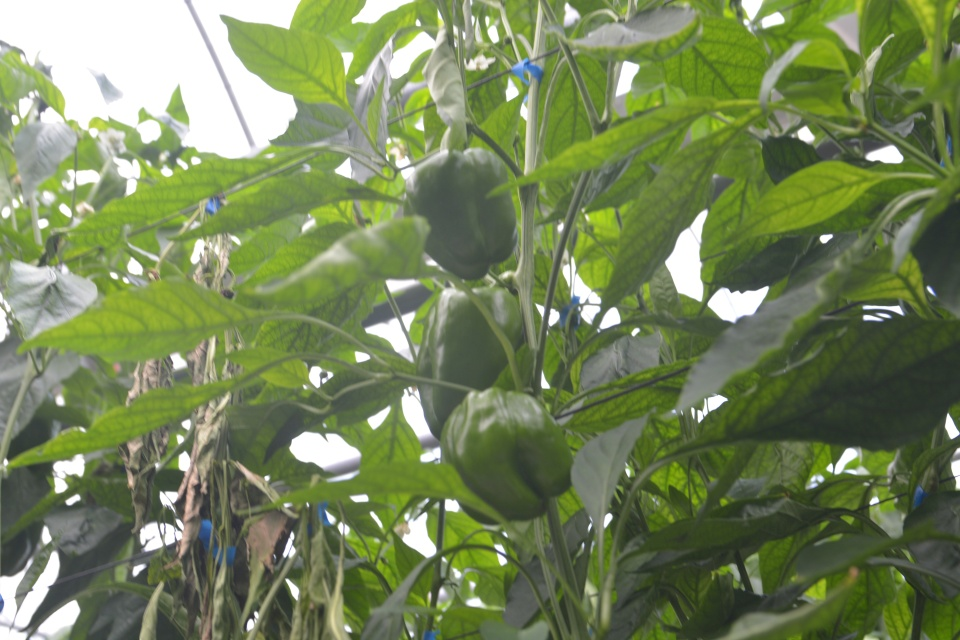fruit: (437, 385, 572, 527), (414, 285, 526, 440), (401, 145, 522, 281)
